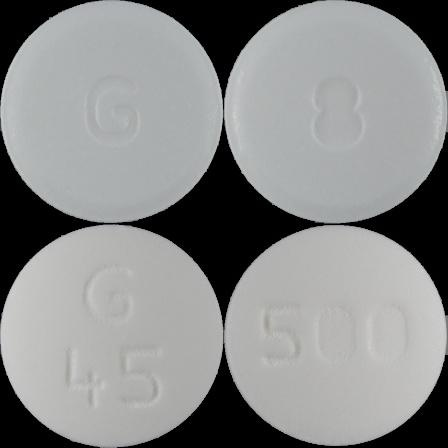68462-158: (0, 0, 224, 224)
